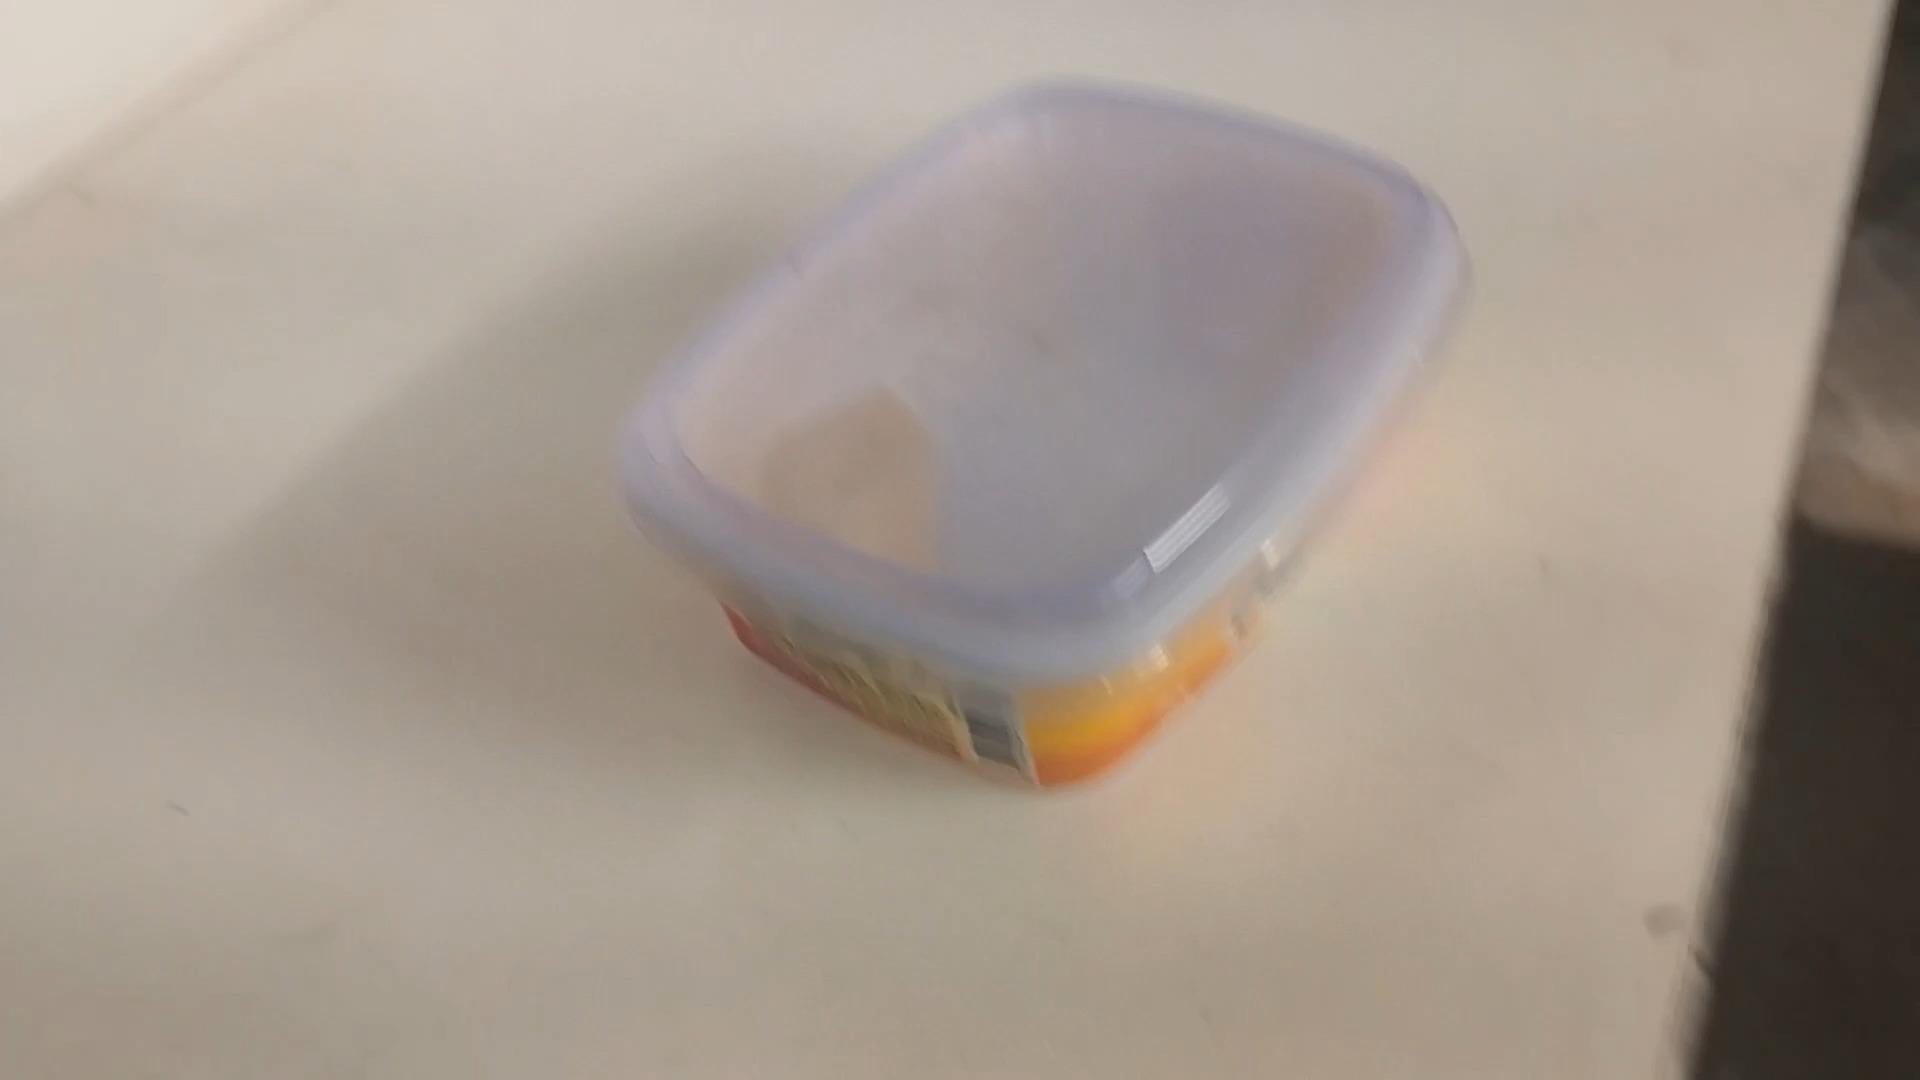butter: (609, 80, 1466, 791)
